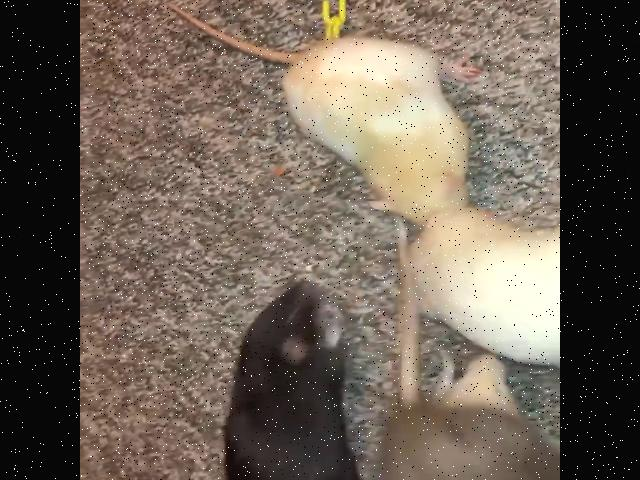Tikus: (250, 36, 478, 218), (221, 278, 357, 480), (375, 363, 559, 480)
